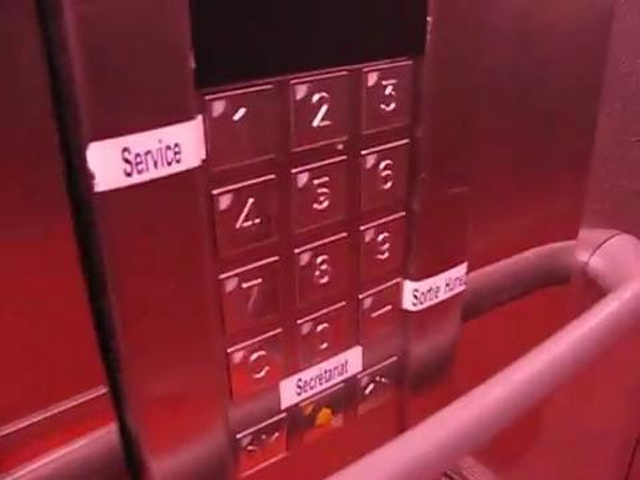-: (356, 280, 407, 342)
0: (298, 301, 351, 371)
1: (204, 86, 280, 172)
2: (288, 73, 351, 150)
3: (358, 60, 414, 136)
4: (209, 177, 282, 260)
5: (287, 153, 349, 238)
6: (356, 139, 408, 222)
7: (220, 257, 281, 345)
8: (294, 234, 351, 313)
9: (356, 211, 406, 295)
C: (222, 330, 288, 400)
alarm: (294, 384, 348, 449)
close: (236, 411, 290, 476)
open: (353, 358, 402, 417)
